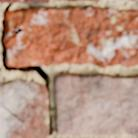brick: (5, 7, 137, 67), (54, 74, 137, 134), (0, 79, 47, 137), (0, 0, 49, 3)
crack: (0, 2, 53, 135)
